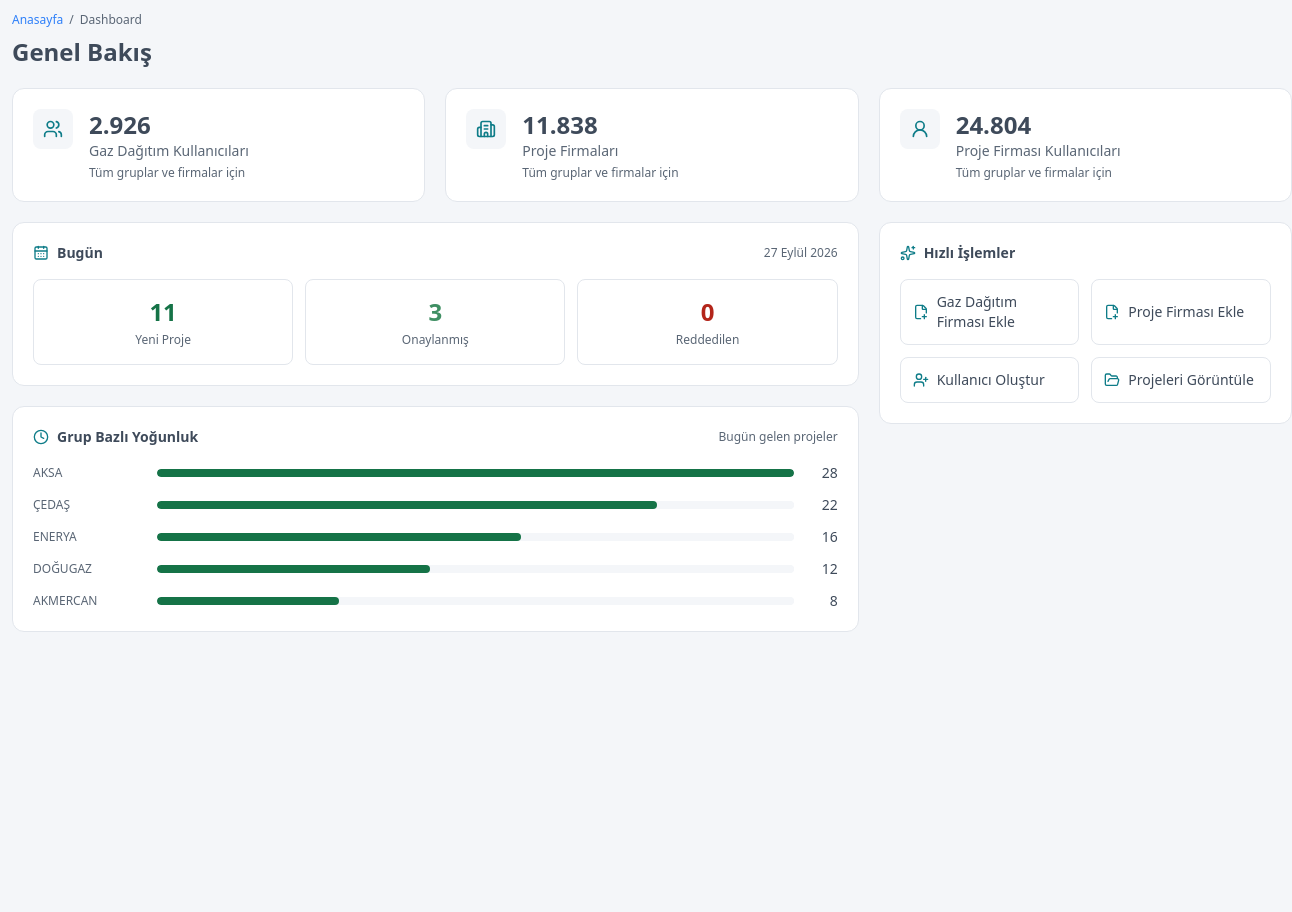
Test case: KK-7 hızlı işlemler › ekranı olmayan kısayol "bu ekran gelecektir" sayfasını açar
Click the link "Kullanıcı Oluştur" at coordinates (990, 380), box [900,357,1079,403]
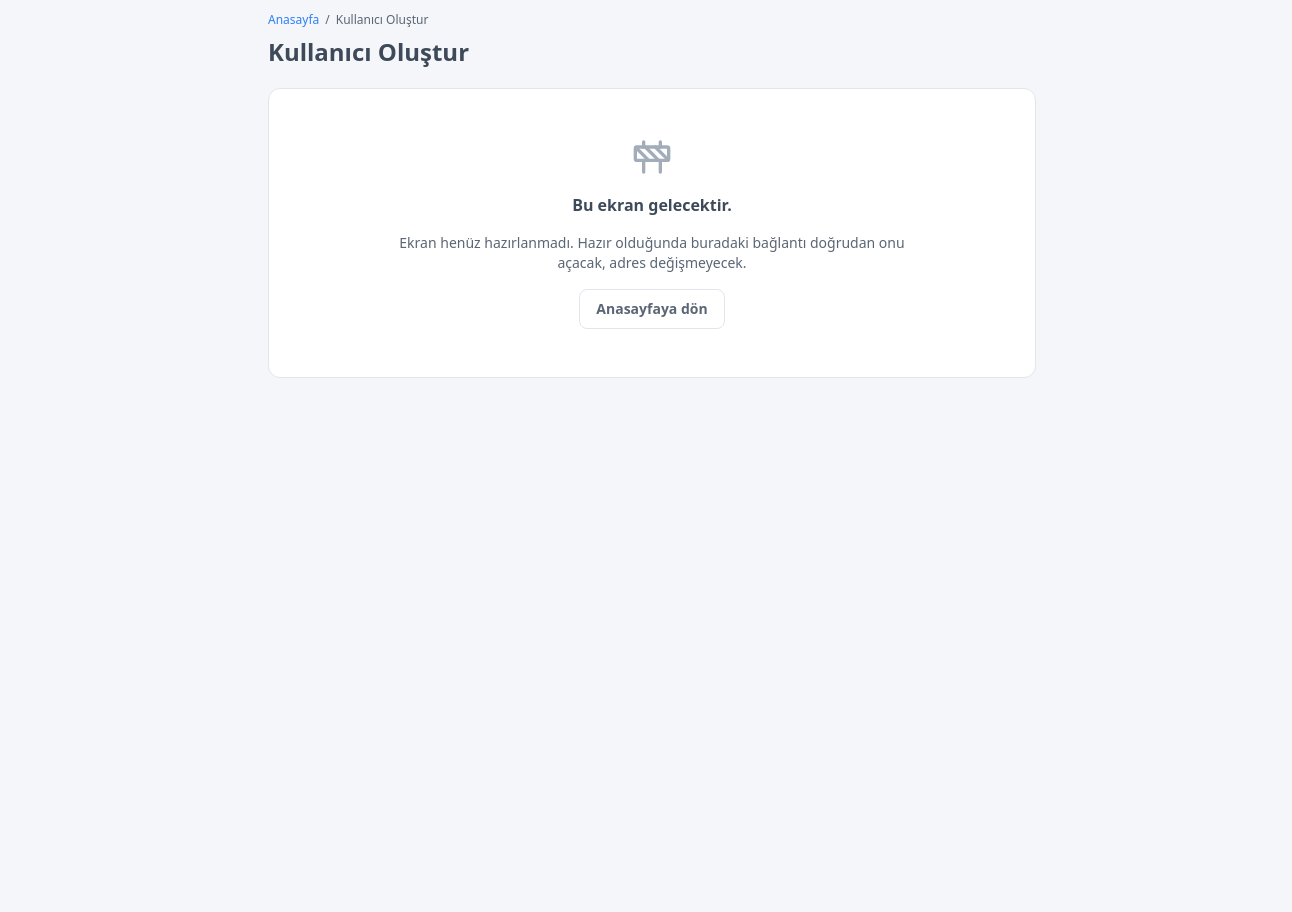
Result: the heading "Kullanıcı Oluştur" is shown at [268,35,469,68]
Result: the text "Bu ekran gelecektir." is shown at [572,193,732,217]
